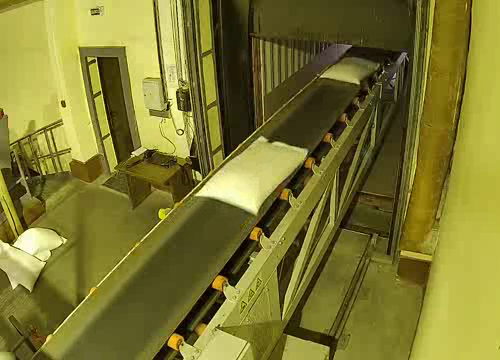bag: (189, 132, 315, 221), (319, 55, 386, 87)
